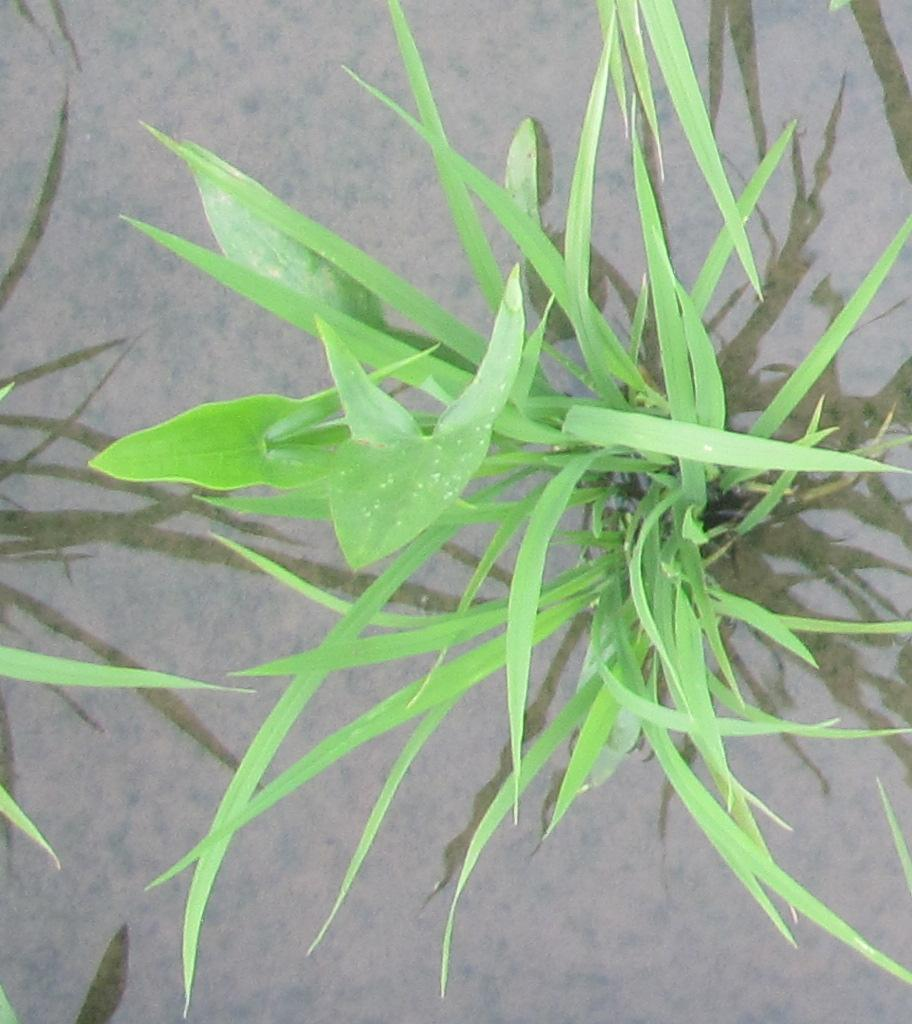Weed: (319, 339, 502, 564), (86, 391, 324, 524)
